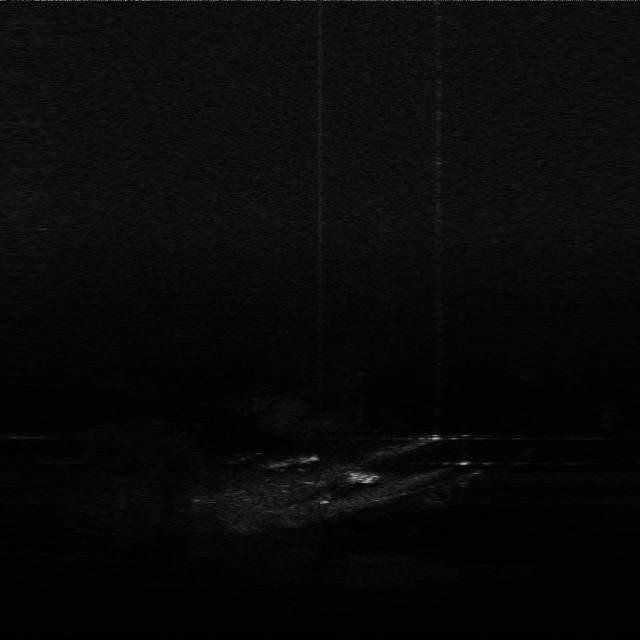rov: (344, 466, 380, 488)
